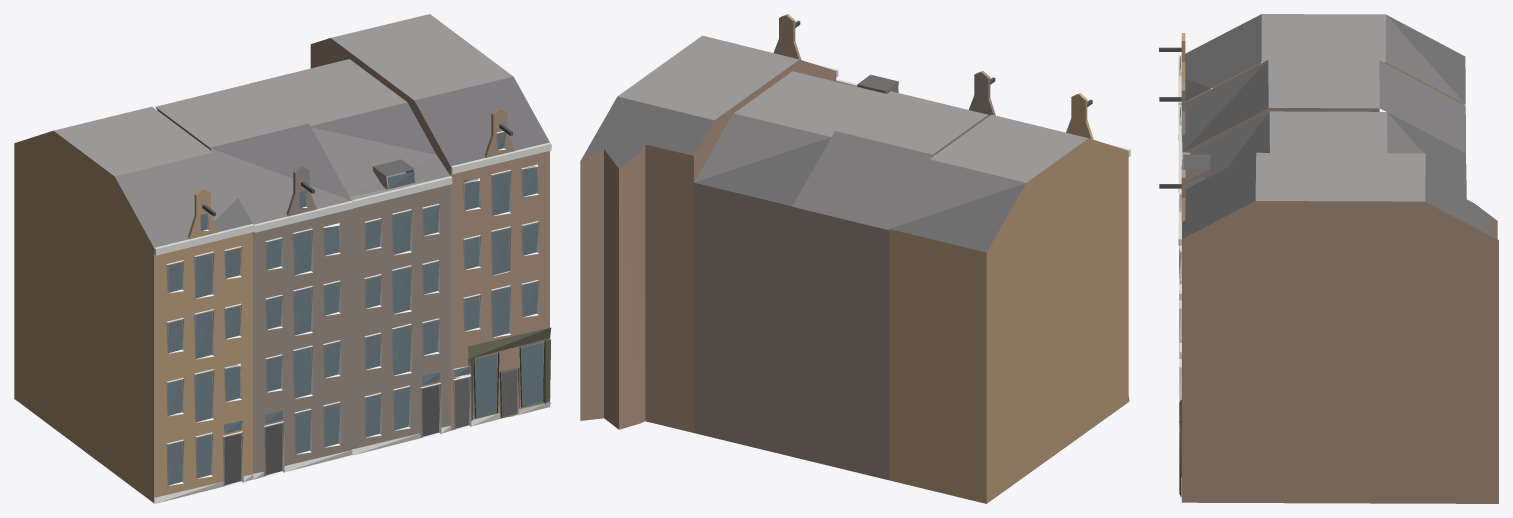
Rendered from chunk-face-bellamyplein-18-38-r2.lod2.glb.
3 views of the same model, side by side, from view 1: azimuth 30°, elevation 25°; view 2: azimuth 150°, elevation 25°; view 3: azimuth 270°, elevation 25° (orthographic).
Parts seen in each view (by area): view 1: lod2; view 2: lod2; view 3: lod2.
Part boxes in pixels (x1=…): lod2: x1=14, y1=14, x2=551, y2=503; lod2: x1=580, y1=14, x2=1130, y2=503; lod2: x1=1159, y1=14, x2=1498, y2=503.
Bounding box in the file's own units: 22.14 × 16.46 × 16.4.
